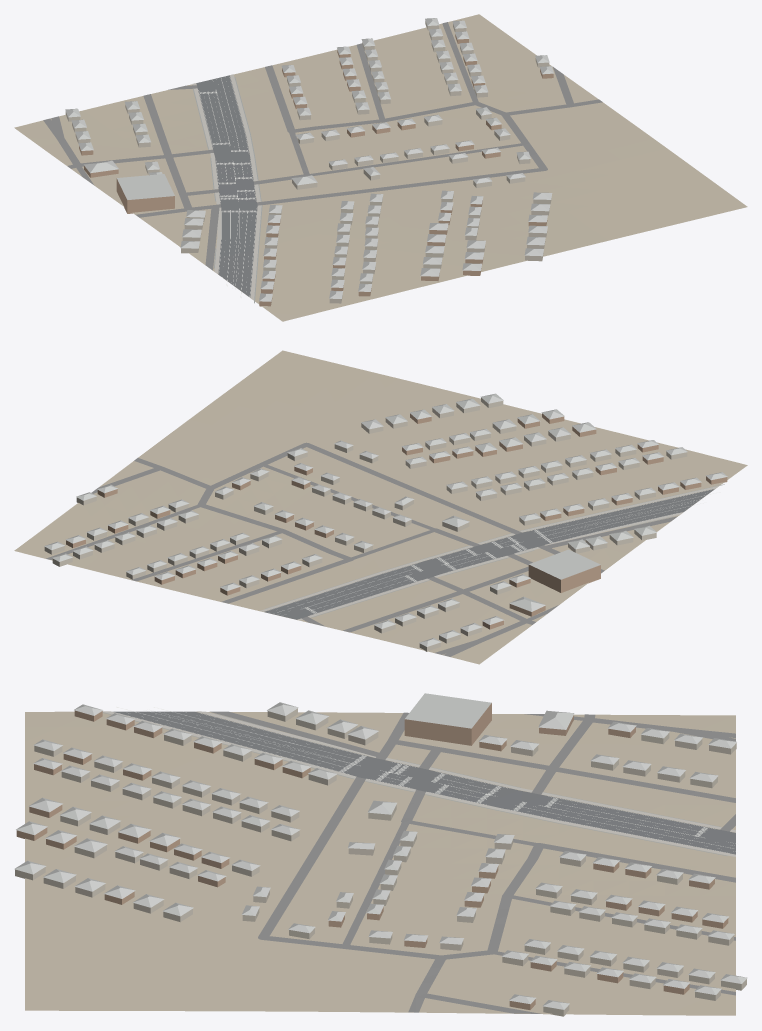
File: bolak_-29_-8.glb
3 renders of one model, top to bottom at view 1: azimuth 30°, elevation 25°; view 2: azimuth 150°, elevation 25°; view 3: azimuth 270°, elevation 25°, orthographic. The views are drawn at different scales.
Visible parts, largest first — view 1: Yer_Tuproq-col, Tom_Shifer, Yol_Mahalla-col, Yol_Asfalt-col, Devor_Suvoq-col, Devor_Gisht-col, Trotuar, Yol_Chiziq, Ariq; view 2: Yer_Tuproq-col, Tom_Shifer, Yol_Mahalla-col, Devor_Suvoq-col, Yol_Asfalt-col, Devor_Gisht-col, Trotuar, Yol_Chiziq, Ariq; view 3: Yer_Tuproq-col, Tom_Shifer, Yol_Mahalla-col, Devor_Suvoq-col, Yol_Asfalt-col, Devor_Gisht-col, Trotuar, Yol_Chiziq, Ariq.
Part boxes in pixels (bbox=[...]): Yer_Tuproq-col: bbox=[14, 14, 747, 321]; Tom_Shifer: bbox=[65, 18, 553, 301]; Yol_Mahalla-col: bbox=[43, 22, 602, 270]; Yol_Asfalt-col: bbox=[196, 75, 257, 297]; Devor_Suvoq-col: bbox=[65, 21, 551, 303]; Devor_Gisht-col: bbox=[79, 34, 553, 306]; Trotuar: bbox=[192, 74, 261, 299]; Yol_Chiziq: bbox=[198, 77, 256, 297]; Ariq: bbox=[193, 77, 262, 303]; Yer_Tuproq-col: bbox=[14, 350, 747, 664]; Tom_Shifer: bbox=[44, 393, 727, 646]; Yol_Mahalla-col: bbox=[46, 442, 677, 656]; Devor_Suvoq-col: bbox=[44, 397, 687, 651]; Yol_Asfalt-col: bbox=[264, 489, 714, 619]; Devor_Gisht-col: bbox=[66, 413, 727, 629]; Trotuar: bbox=[260, 486, 718, 620]; Yol_Chiziq: bbox=[277, 492, 720, 613]; Ariq: bbox=[265, 484, 724, 617]; Yer_Tuproq-col: bbox=[25, 711, 735, 1015]; Tom_Shifer: bbox=[14, 693, 747, 1009]; Yol_Mahalla-col: bbox=[210, 711, 735, 1013]; Devor_Suvoq-col: bbox=[15, 708, 746, 1016]; Yol_Asfalt-col: bbox=[113, 711, 735, 854]; Devor_Gisht-col: bbox=[16, 703, 728, 1009]; Trotuar: bbox=[102, 711, 735, 856]; Yol_Chiziq: bbox=[111, 707, 737, 852]; Ariq: bbox=[103, 712, 727, 855].
Size of what is drawn, in the model's own units: 409 by 12.95 by 413.
